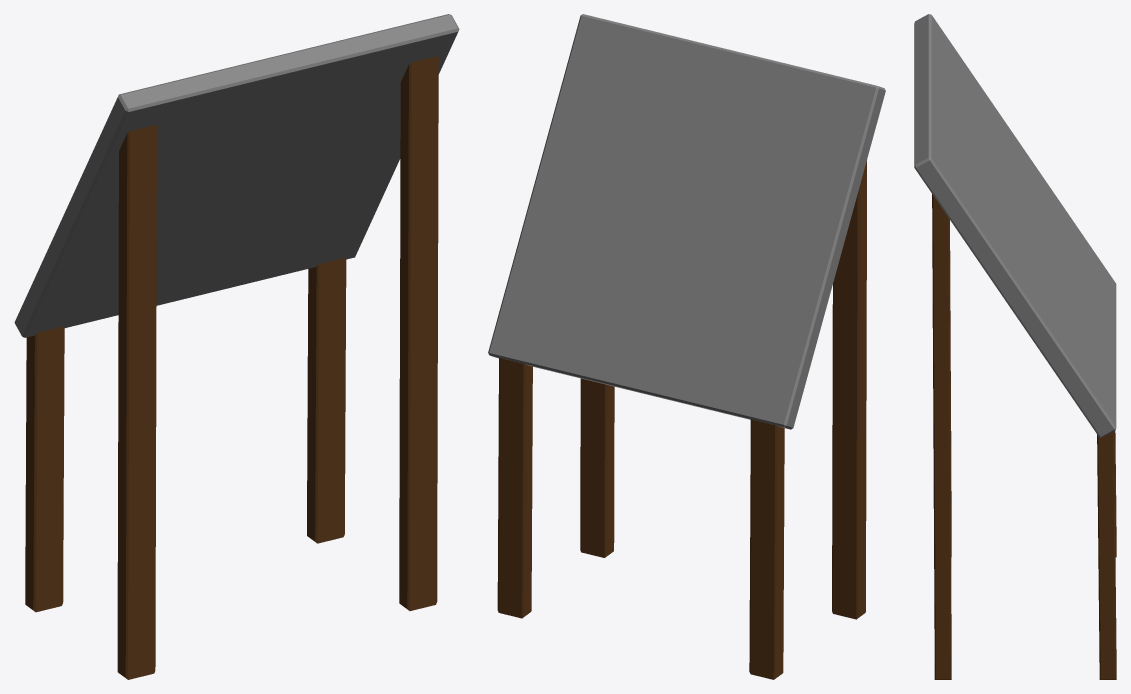
File: PaintingCanvas1.glb
The picture shows the model from 3 angles, left to right: view 1: azimuth 30°, elevation 25°; view 2: azimuth 150°, elevation 25°; view 3: azimuth 270°, elevation 25°; orthographic projection. The views are drawn at different scales.
Parts seen in each view (by area): view 1: PaintingCanvas1; view 2: PaintingCanvas1; view 3: PaintingCanvas1.
Part boxes in pixels (x1=…): PaintingCanvas1: x1=14, y1=14, x2=459, y2=679; PaintingCanvas1: x1=488, y1=14, x2=885, y2=679; PaintingCanvas1: x1=914, y1=14, x2=1116, y2=679.
Bounding box in the file's own units: 0.9738 × 1.64 × 0.5722.
